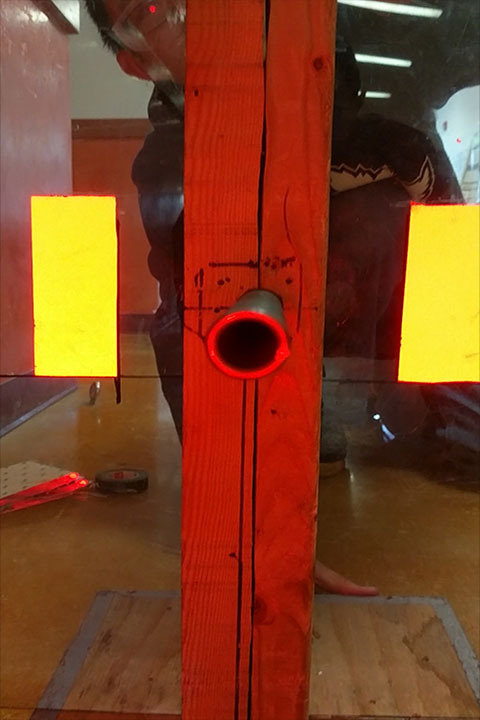gear: (30, 194, 121, 379), (397, 202, 480, 385)
